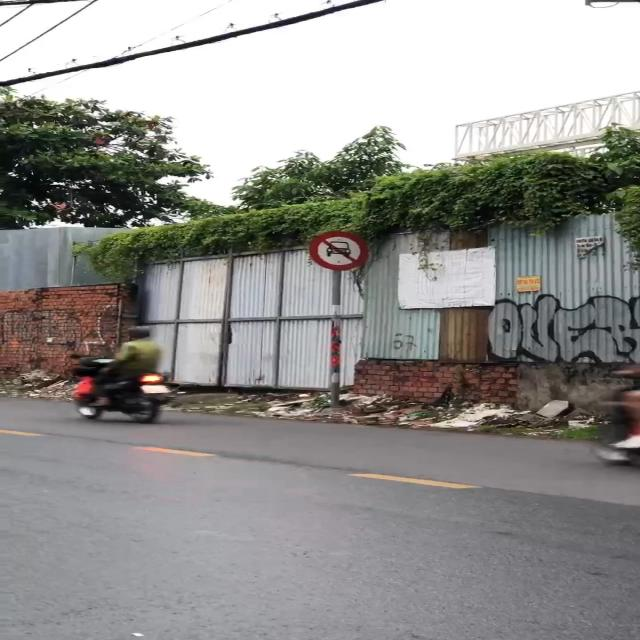Bien bao cam xe oto: (306, 228, 374, 272)
